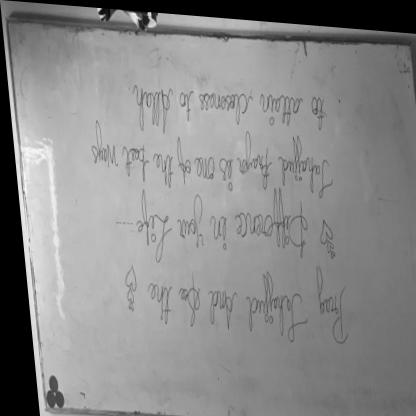Handwritten text: (84, 126, 341, 199), (140, 262, 353, 347), (128, 186, 308, 274), (121, 72, 344, 143)
Whiteboard: (8, 16, 416, 416)
